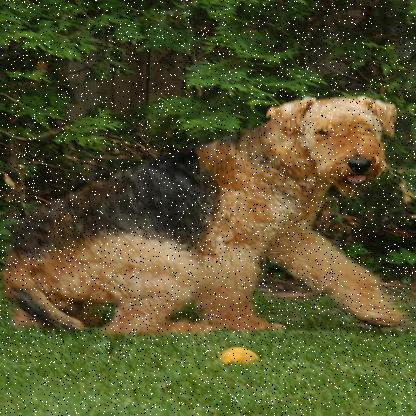dog: (17, 85, 415, 354)
